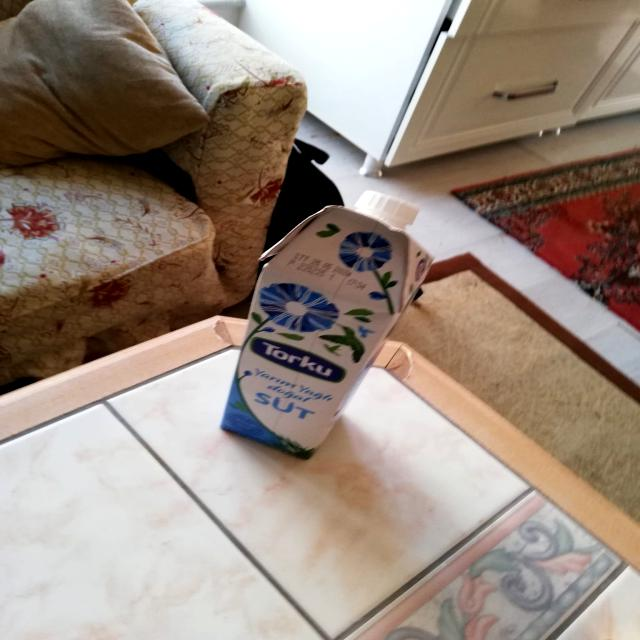milk: (218, 188, 431, 460)
